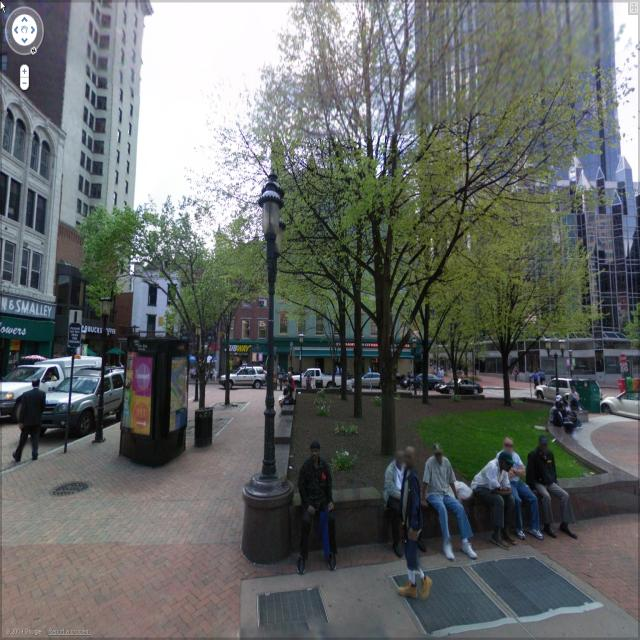b_1: (61, 1, 141, 201), (9, 77, 57, 365)
b_2: (417, 7, 637, 381), (269, 150, 417, 389), (46, 202, 136, 389), (126, 238, 208, 388), (215, 227, 281, 404)
